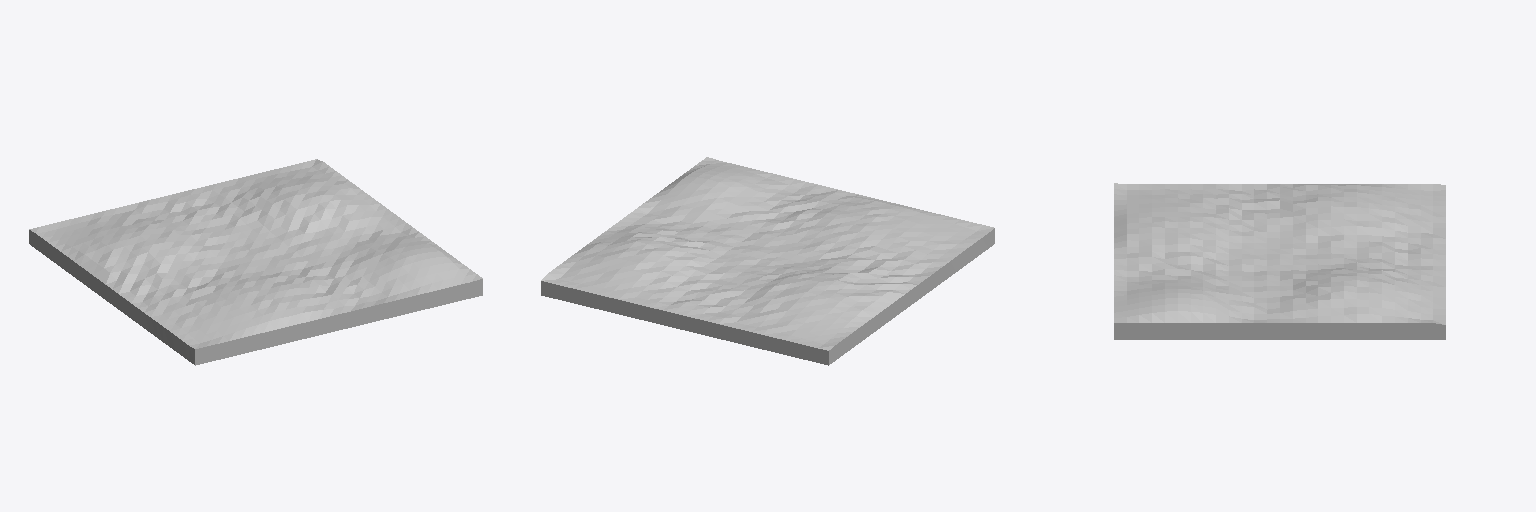
The model's file is ground.obj.
3 views of the same model, side by side, from view 1: azimuth 30°, elevation 25°; view 2: azimuth 150°, elevation 25°; view 3: azimuth 270°, elevation 25° (orthographic).
Visible parts, largest first — view 1: Plane; view 2: Plane; view 3: Plane.
Boxes of the visible parts, x1,y1,x2,y2 form: Plane: [29, 159, 482, 365]; Plane: [541, 157, 994, 365]; Plane: [1114, 183, 1445, 339].
Bounding box in the file's own units: 7.24 × 0.6607 × 7.24.